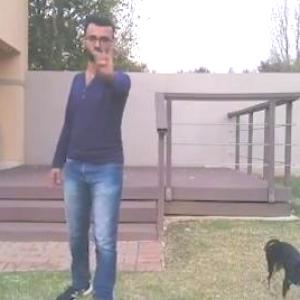takeoff-hand: (88, 32, 124, 75)
